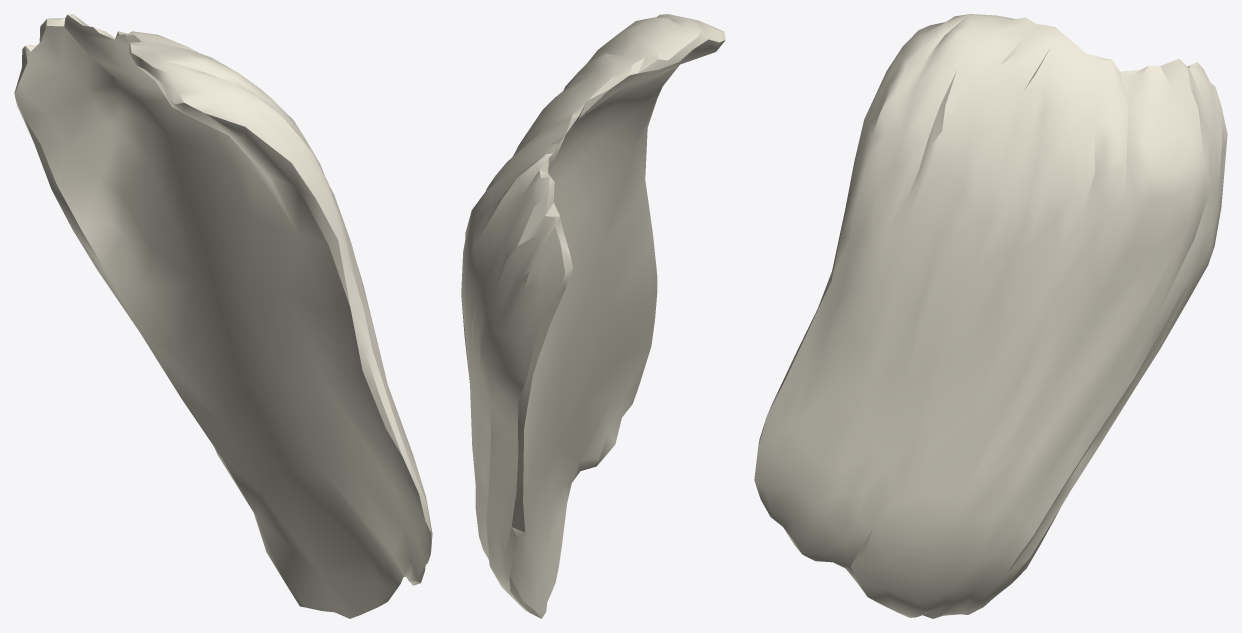
Rendered from fma326801-l_mm1488.glb.
3 views of the same model, side by side, from view 1: azimuth 30°, elevation 25°; view 2: azimuth 150°, elevation 25°; view 3: azimuth 270°, elevation 25° (orthographic). The views are drawn at different scales.
Visible parts, largest first — view 1: FMA326801-L_MM1488; view 2: FMA326801-L_MM1488; view 3: FMA326801-L_MM1488.
Part boxes in pixels (<box>): FMA326801-L_MM1488: <box>14,14,432,618</box>; FMA326801-L_MM1488: <box>461,14,725,618</box>; FMA326801-L_MM1488: <box>754,14,1227,618</box>.
Bounding box in the file's own units: 0.00635 × 0.0168 × 0.0134.
